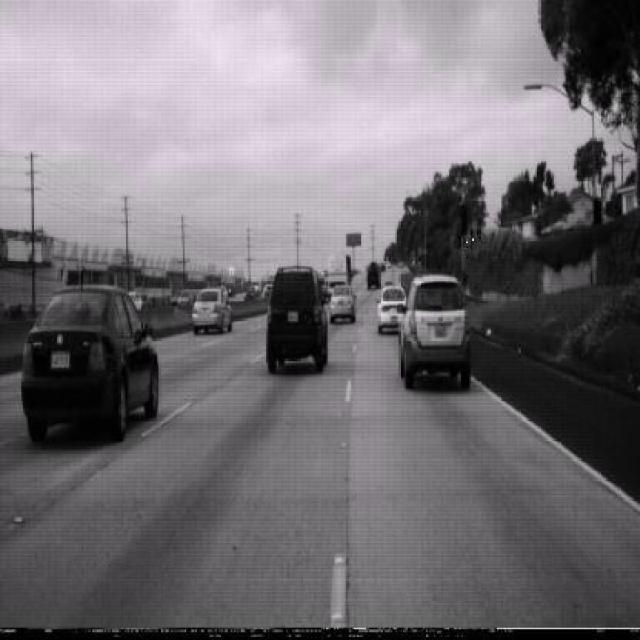addedLane: (465, 214, 487, 261)
